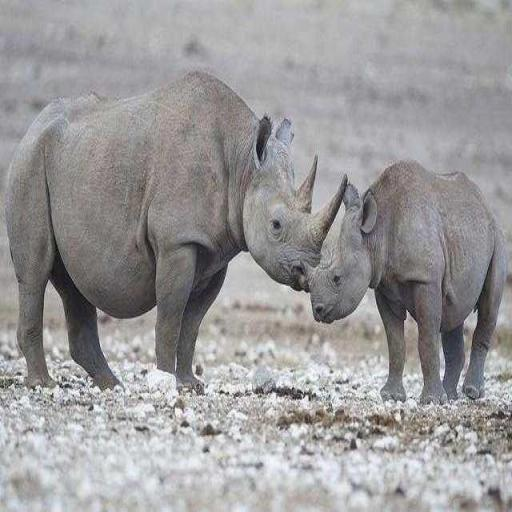Rhino: (4, 68, 347, 396), (309, 156, 507, 405)
